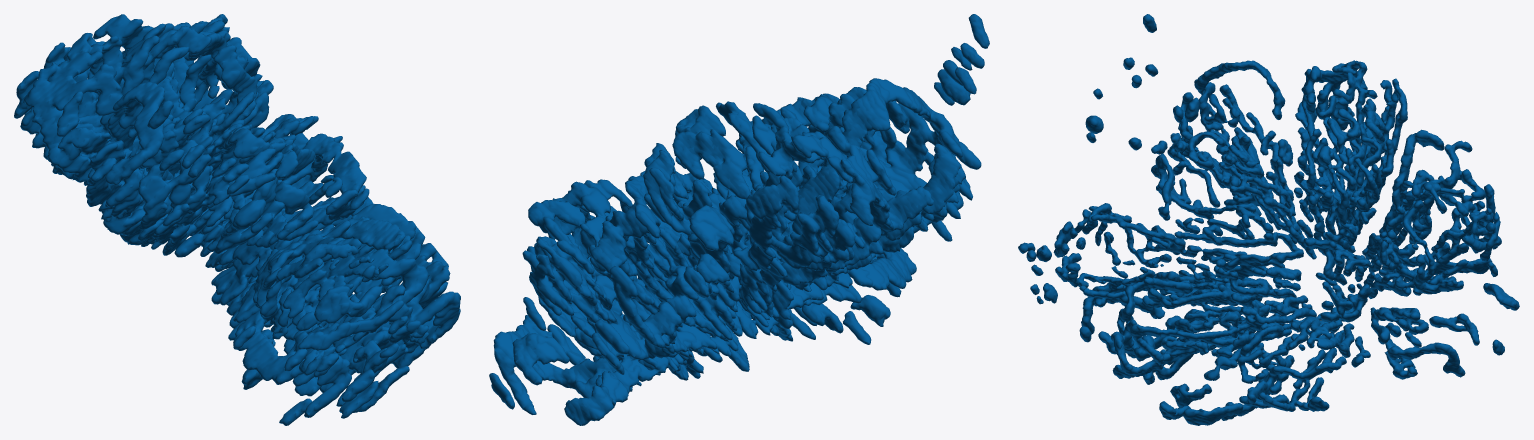
File: 0HR_30cis_timelapse_z.glb
3 renders of one model, left to right at view 1: azimuth 30°, elevation 25°; view 2: azimuth 150°, elevation 25°; view 3: azimuth 270°, elevation 25°, orthographic. The views are drawn at different scales.
Visible parts, largest first — view 1: 0HR_30cis_timelase_z; view 2: 0HR_30cis_timelase_z; view 3: 0HR_30cis_timelase_z.
Part boxes in pixels (left/top/right/bottom): 0HR_30cis_timelase_z: left=14, top=14, right=460, bottom=425; 0HR_30cis_timelase_z: left=489, top=14, right=989, bottom=425; 0HR_30cis_timelase_z: left=1018, top=14, right=1519, bottom=425.
Size of the model in its own units: 21.25 by 21.33 by 30.29.
